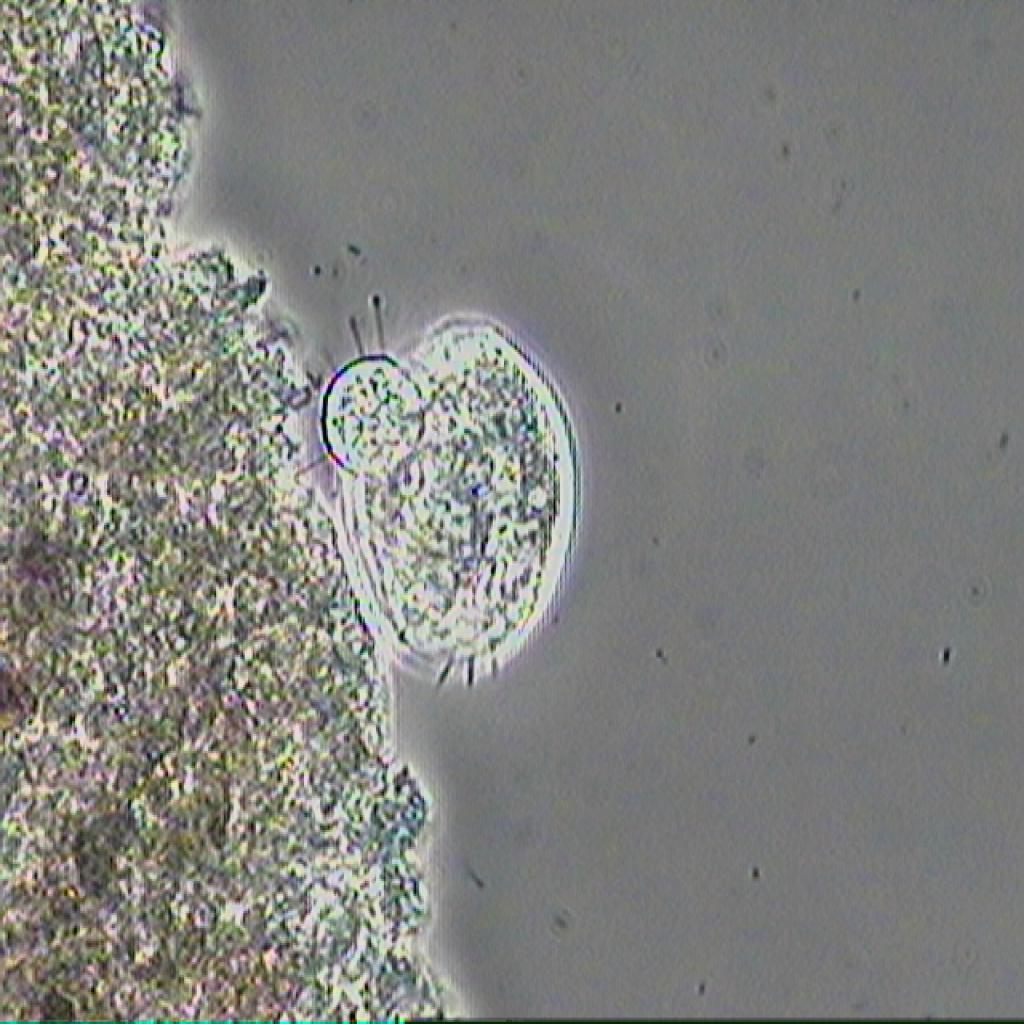Suctorida: (310, 282, 602, 728)
